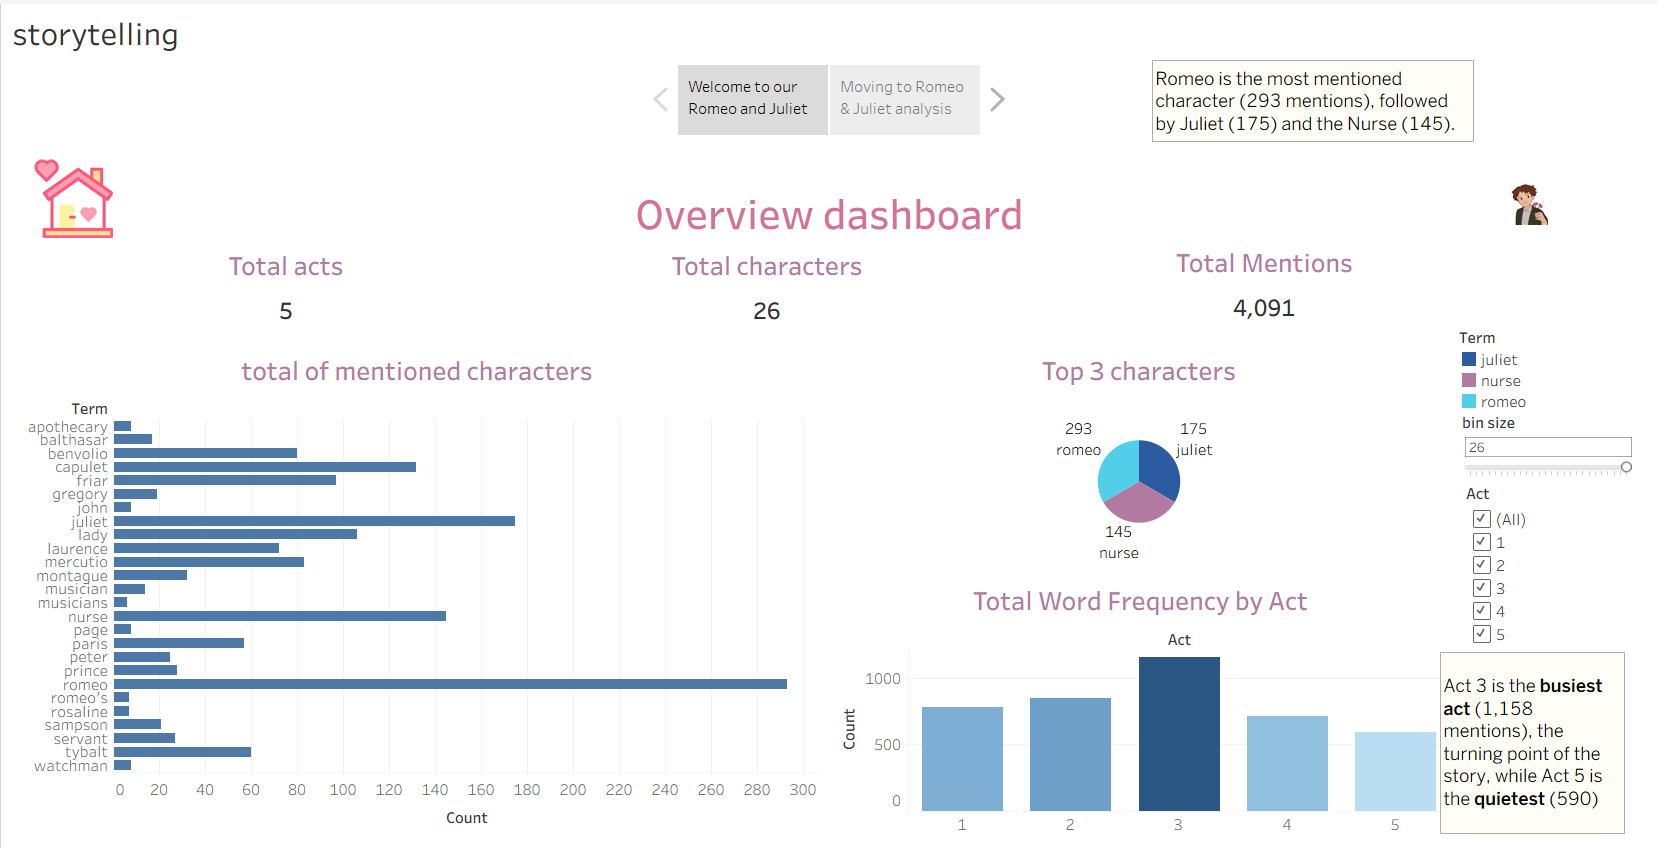

Layout of this report page (visuals, bound fields, positions):
{"tool":"tableau","page":{"name":"Overview dashboard","canvas":[1000,1000],"units":"permille","ordinal":0},"visuals":[{"type":"image","param":"Image/fae654526f1ad5f88f457362dd05b59d.jpg","box":[15.1,5.9,68.8,114]},{"type":"title","box":[4.8,9.4,990.3,116.3]},{"type":"dashboard-object","box":[906.5,40,39.2,61.1]},{"type":"worksheet","title":"Total Mentions","mark":"Automatic","box":[642.7,124.6,244.4,145.7]},{"type":"worksheet","title":"total acts","mark":"Automatic","box":[65.8,128.1,205.8,153.9]},{"type":"worksheet","title":"total characters","mark":"Automatic","box":[331.3,128.1,260.7,144.5]},{"type":"legend","title":"Top 3 characters","param":"[federated.0n1zgso1duuxgc1gr50g70vfslyl].[none:Term:nk]","box":[883.5,247.9,92.9,122.2]},{"type":"worksheet","title":"total of mentioned characters","mark":"Automatic","rows":["Term"],"cols":["Count"],"box":[2.4,279.7,492.5,702.7]},{"type":"worksheet","title":"Top 3 characters","mark":"Pie","box":[501.5,280.9,374.2,310.2]},{"type":"parameter","param":"[Parameters].[Parameter 1117707892903937]","box":[885.3,371.3,105.6,110.5]},{"type":"filter","title":"Total Word Frequency by Act","param":"[federated.0n1zgso1duuxgc1gr50g70vfslyl].[none:Act:nk]","box":[887.8,473.6,100.2,251.5]},{"type":"worksheet","title":"Total Word Frequency by Act","mark":"Automatic","rows":["Count"],"cols":["Act"],"box":[500.9,612.2,377.2,371.3]}]}

Visuals, with their boxes on the dashboard's canvas, which has no fixed pixel size, in thousandths of its width and height (x1, y1, x2, y2). These are canvas units, not pixel positions in the 1657x848 screenshot, which may show the page scaled, cropped or inside an application window:
image: box(15, 6, 84, 120)
title: box(5, 9, 995, 126)
dashboard-object: box(906, 40, 946, 101)
"Total Mentions" worksheet: box(643, 125, 887, 270)
"total acts" worksheet: box(66, 128, 272, 282)
"total characters" worksheet: box(331, 128, 592, 273)
"Top 3 characters" legend: box(884, 248, 976, 370)
"total of mentioned characters" worksheet: box(2, 280, 495, 982)
"Top 3 characters" worksheet (Pie marks): box(502, 281, 876, 591)
parameter: box(885, 371, 991, 482)
"Total Word Frequency by Act" filter: box(888, 474, 988, 725)
"Total Word Frequency by Act" worksheet: box(501, 612, 878, 984)
